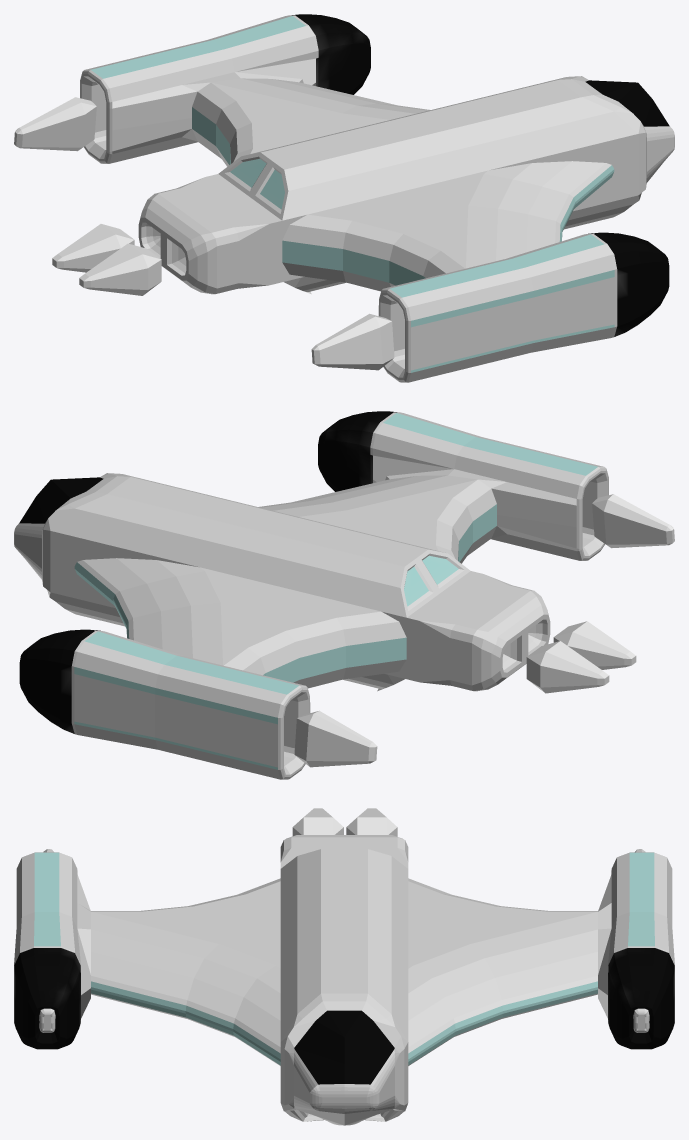
File: playerAnimBlend.fbx
3 views of the same model, one above another, from view 1: azimuth 30°, elevation 25°; view 2: azimuth 150°, elevation 25°; view 3: azimuth 270°, elevation 25° (orthographic).
Parts seen in each view (by area): view 1: Cube, Cube.002, Cube.001; view 2: Cube, Cube.002, Cube.001; view 3: Cube, Cube.001.
Boxes of the visible parts, bbox=[...] form: Cube: bbox=[80, 14, 674, 382]; Cube.002: bbox=[14, 97, 394, 370]; Cube.001: bbox=[52, 224, 161, 295]; Cube: bbox=[14, 411, 608, 779]; Cube.002: bbox=[294, 494, 674, 767]; Cube.001: bbox=[526, 621, 636, 693]; Cube: bbox=[14, 835, 674, 1125]; Cube.001: bbox=[292, 808, 397, 836].
Bounding box in the file's own units: 1009 × 200 × 979.
